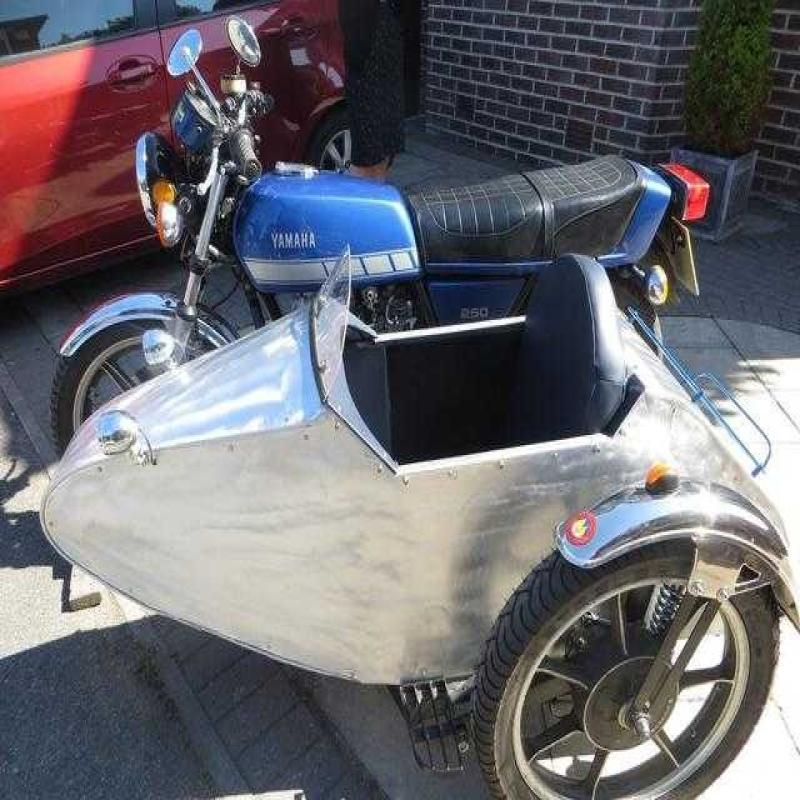bike: (91, 21, 716, 409)
